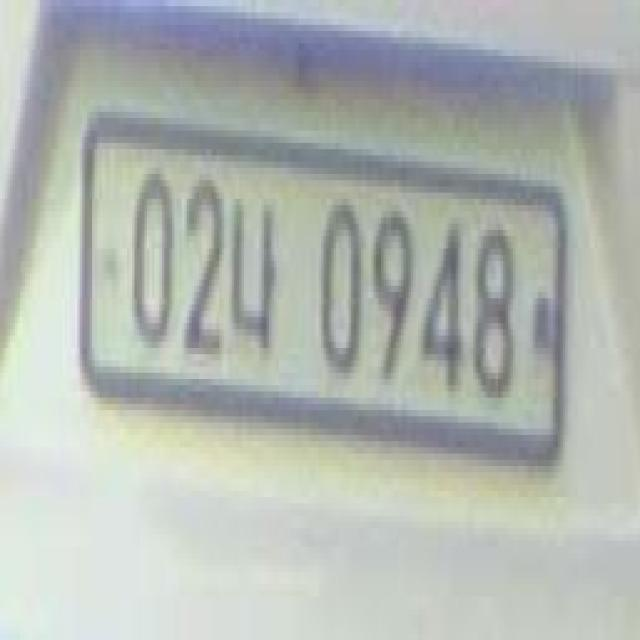illegal_plate: (83, 109, 569, 494)
